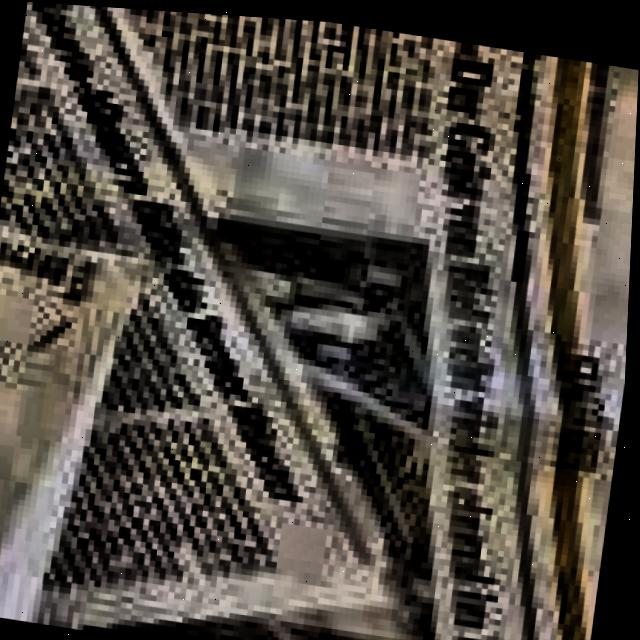paper: (0, 1, 639, 640)
